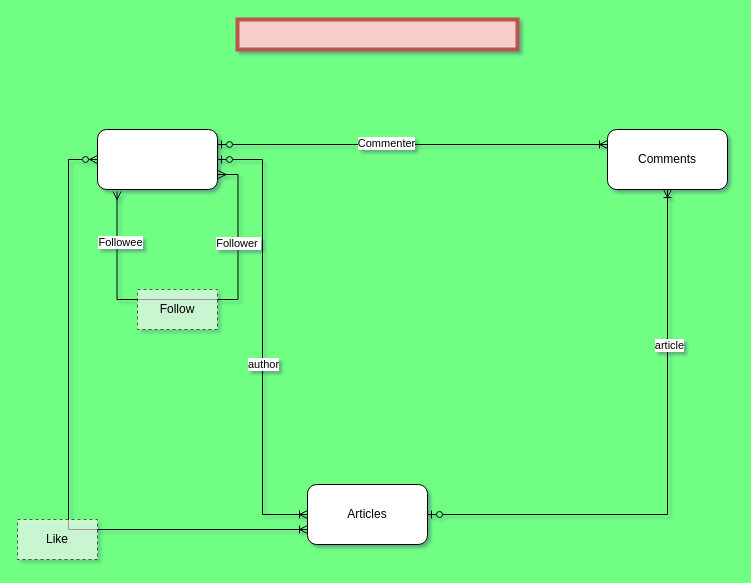
Image size: 751x583. Some labels were removed from this diagram. Here are the shapes that lost their labels. From the top down, the centre of each, then its label:
the point at 377,34: The Blogging App DataBase Schema Design
the point at 157,159: Users
